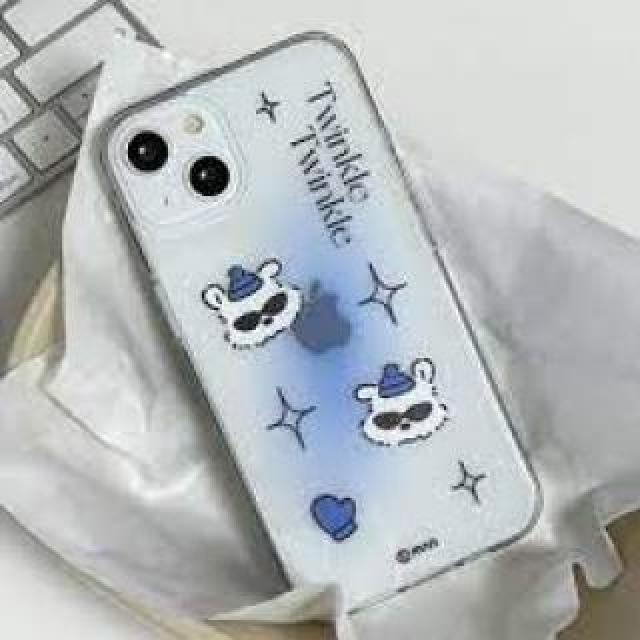smart phone: (90, 10, 552, 610)
